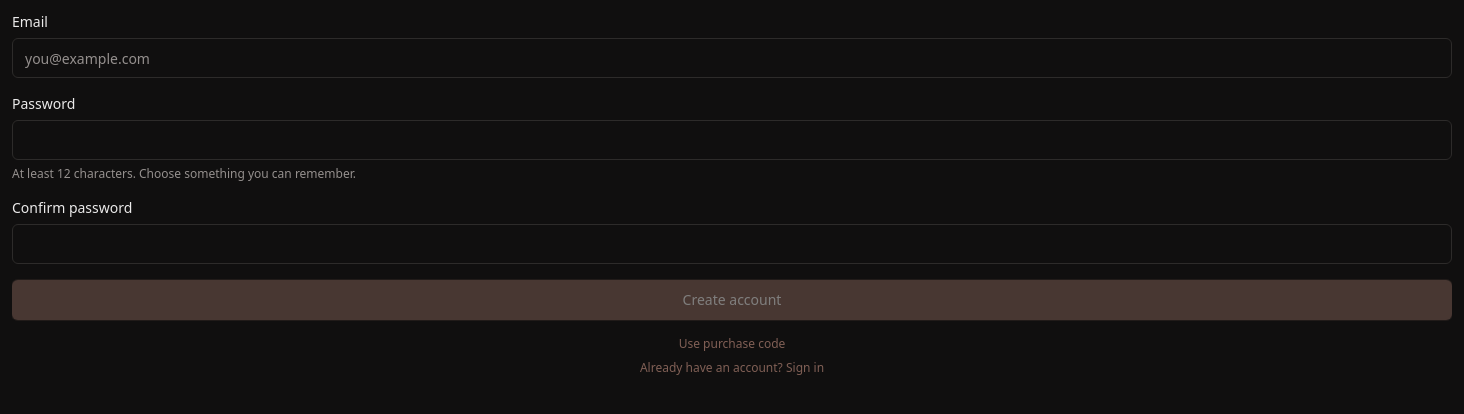
SignUpForm — claim mode toggle › hides email and reveals the paste field; preserves password
The width and height of the screenshot is (1464, 414).
In the password field labelled "Password": (732, 140) [12, 120, 1452, 160], type "correct-horse-battery-staple"
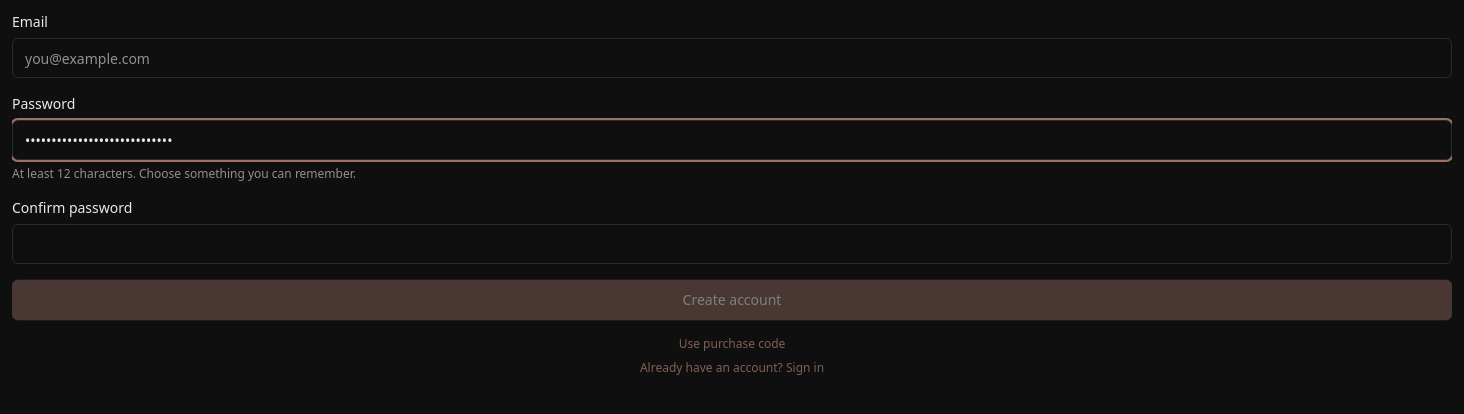
Click the button "Use purchase code": click(732, 344) [679, 336, 785, 352]
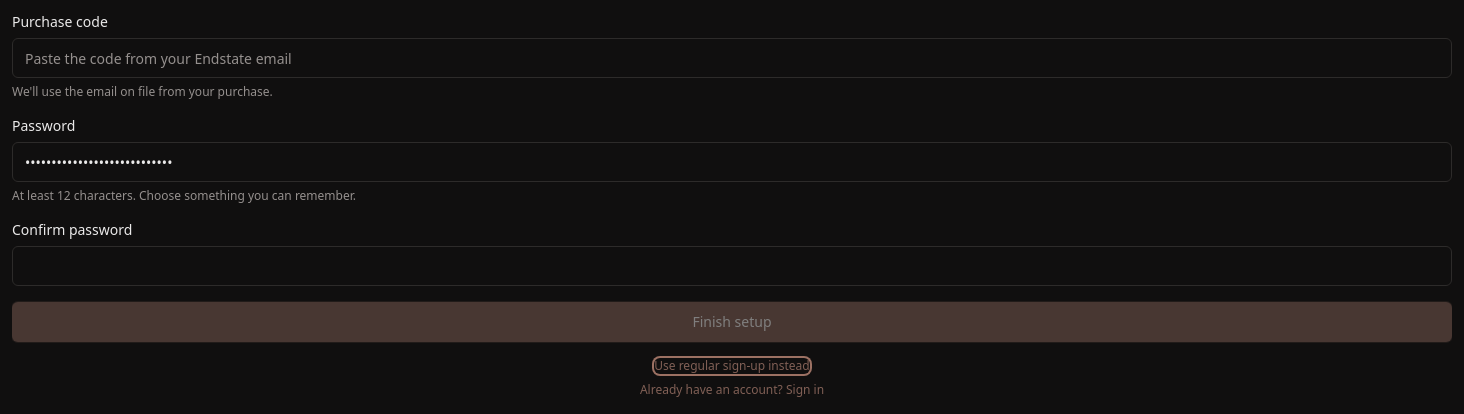
Expected: the field labelled "Purchase code" is shown, [12, 38, 1452, 78]
Now the button "Finish setup" is shown, box [12, 302, 1452, 342]
